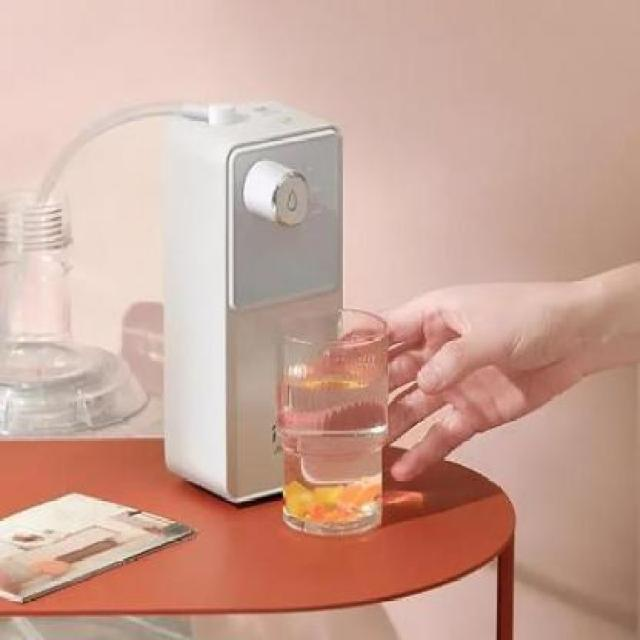cooler: (163, 100, 345, 511)
